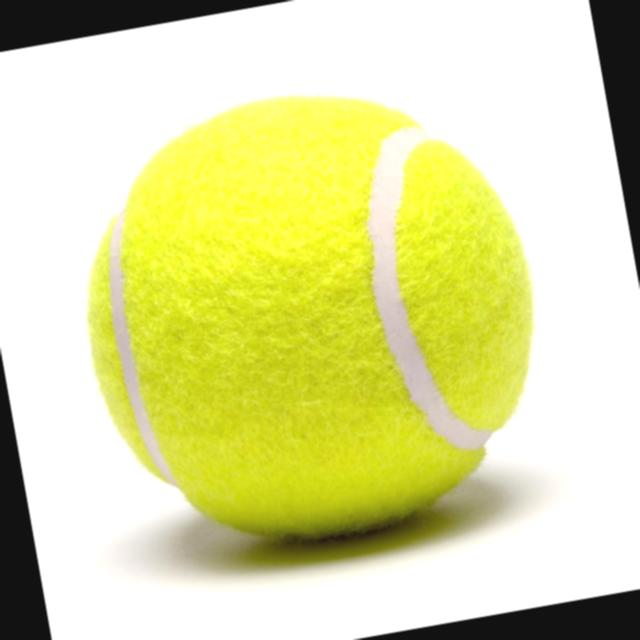tennis-ball: (48, 55, 576, 578)
